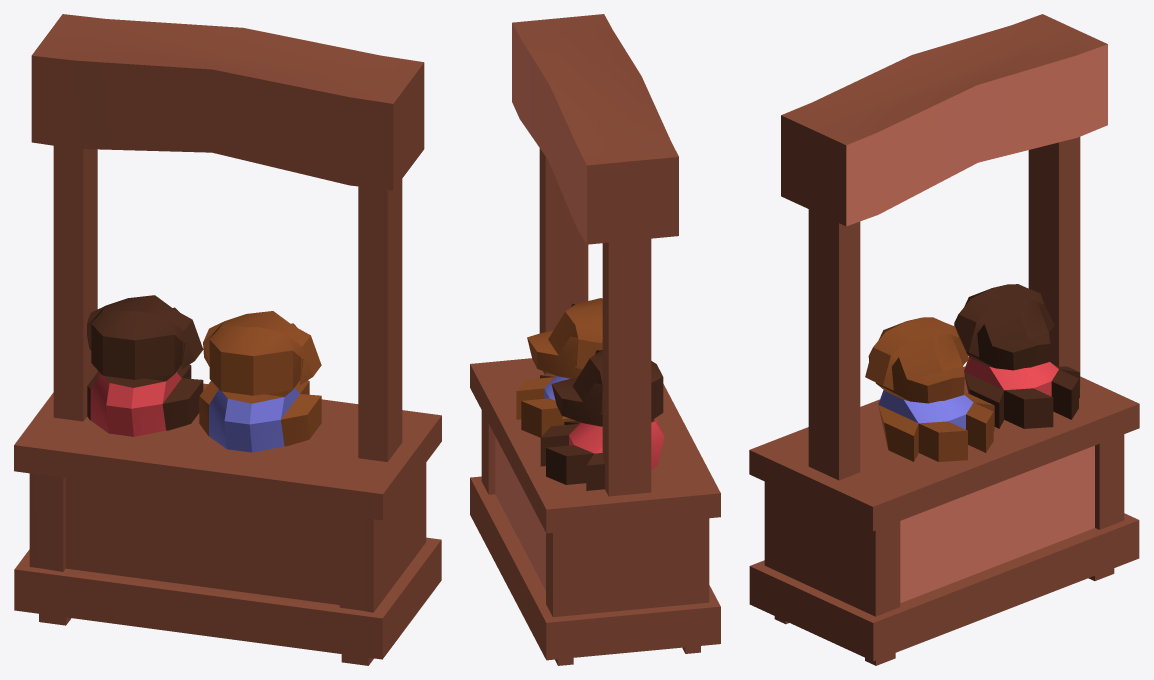
The model's file is VR.fbx_stand_3.fbx.
3 views of the same model, side by side, from view 1: azimuth 30°, elevation 25°; view 2: azimuth 150°, elevation 25°; view 3: azimuth 270°, elevation 25° (orthographic). The views are drawn at different scales.
Parts seen in each view (by area): view 1: stand 3; view 2: stand 3; view 3: stand 3.
Boxes of the visible parts, x1,y1,x2,y2 form: stand 3: (14,14,441,665); stand 3: (470,14,720,665); stand 3: (749,14,1139,665).
Bounding box in the file's own units: 63.93 × 97.91 × 65.8.
